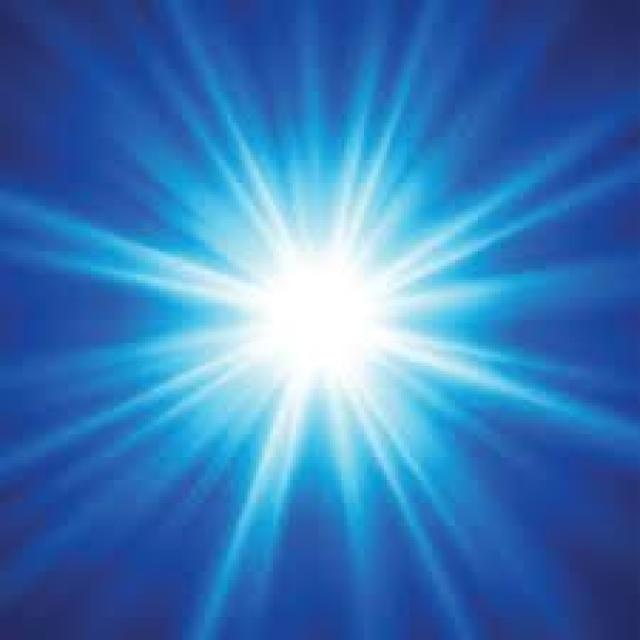other: (162, 168, 494, 470)
